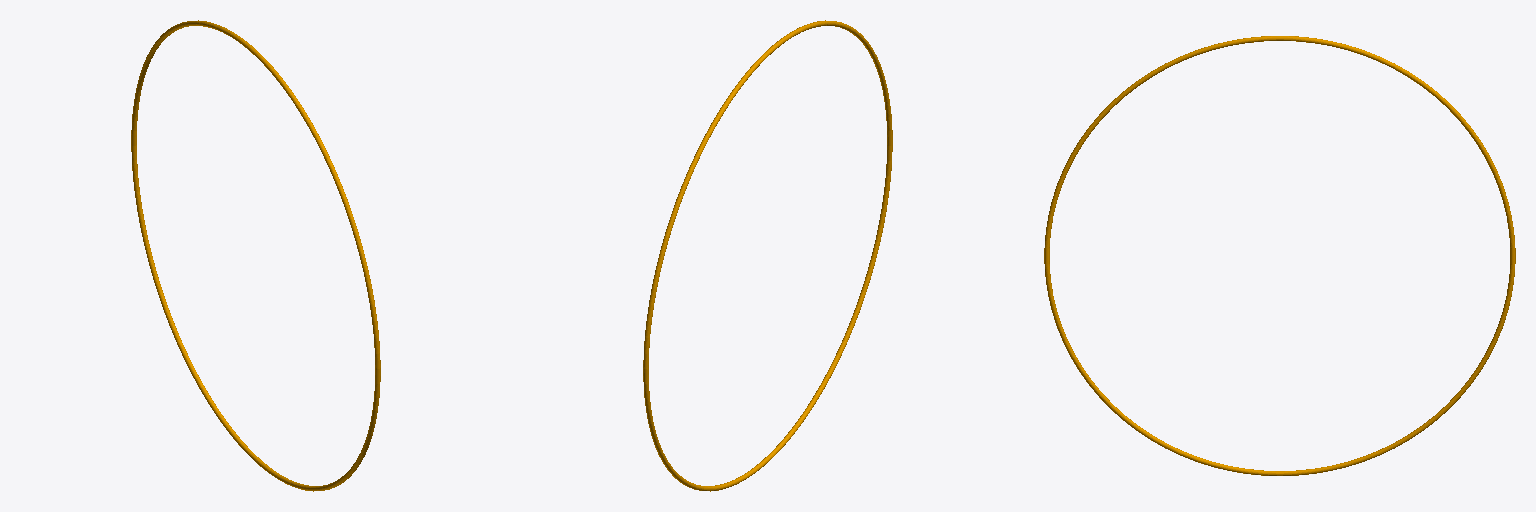
URDF robot description (holodeck):
<robot name="holodeck">
   <material name="Brown">
     <color rgba="83./255. 53./255. 10./255."/>
   </material>
   <material name="White">
     <color rgba="1 1 1"/>
   </material>
   <material name="Grey">
     <color rgba=".3 .3 .3"/>
   </material>
   <material name="Red">
     <color rgba="1 0 0"/>
   </material>
   
   <link name="red_hoop_1">
   	<inertial>
   		<mass value=".5" />
   		<origin xyz="0 0 0" rpy="0 0 0"/>
		  <inertia ixx="10"  ixy="0"  ixz="0" iyy="10" iyz="0" izz="10" />
   	</inertial>
  	<visual>
      <origin xyz="-.45 -.45 1.5" rpy="0 1.5 0" />
      <geometry>
        <mesh filename="mesh/hulahoop.obj" scale=".001"/>
      </geometry>
      <material name="Red"/>
    </visual>
    <collision>
      <origin xyz="-.45 -.45 1.5" rpy="0 1.5 0" />
      <geometry>
        <mesh filename="mesh/hulahoop.obj" scale=".001"/>
      </geometry>
    </collision>
   </link>

</robot>

--- Facts derived from the render (not from the file) ---
Views: 3 orthographic renders of the robot side by side, from view 1: azimuth 30°, elevation 25°; view 2: azimuth 150°, elevation 25°; view 3: azimuth 270°, elevation 25°.
Model holodeck with 1 links and 0 joints (none), rooted at red_hoop_1, posed every joint at zero.
Links seen in each view (by area): view 1: red_hoop_1; view 2: red_hoop_1; view 3: red_hoop_1.
Boxes of the visible links, x1,y1,x2,y2 form: red_hoop_1: (131,20,380,491); red_hoop_1: (643,20,892,491); red_hoop_1: (1044,36,1515,475).
Size in the robot's own frame: 0.0729 by 0.8994 by 0.8978 metres.
1 mesh visuals loaded from 1 distinct referenced files (1 OBJ).
